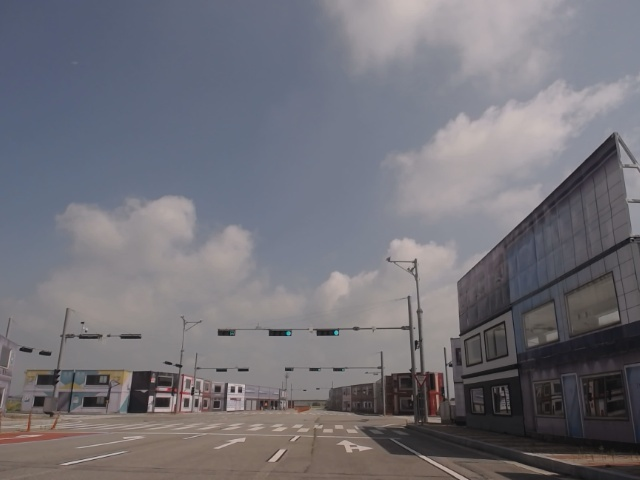straight_green_4: (268, 329, 294, 337), (316, 329, 339, 337)
